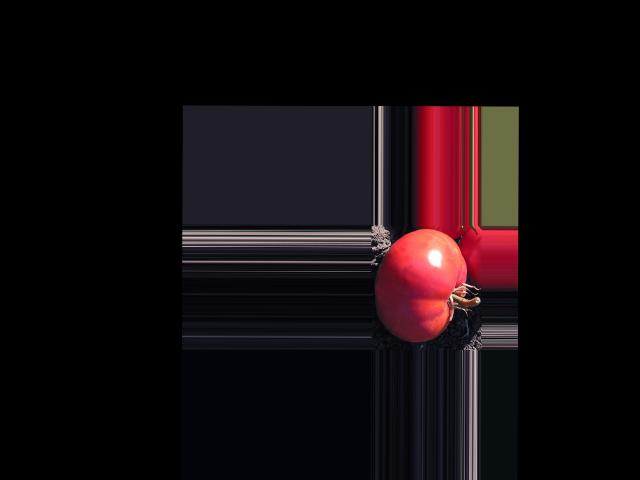tomato: (374, 228, 466, 342)
